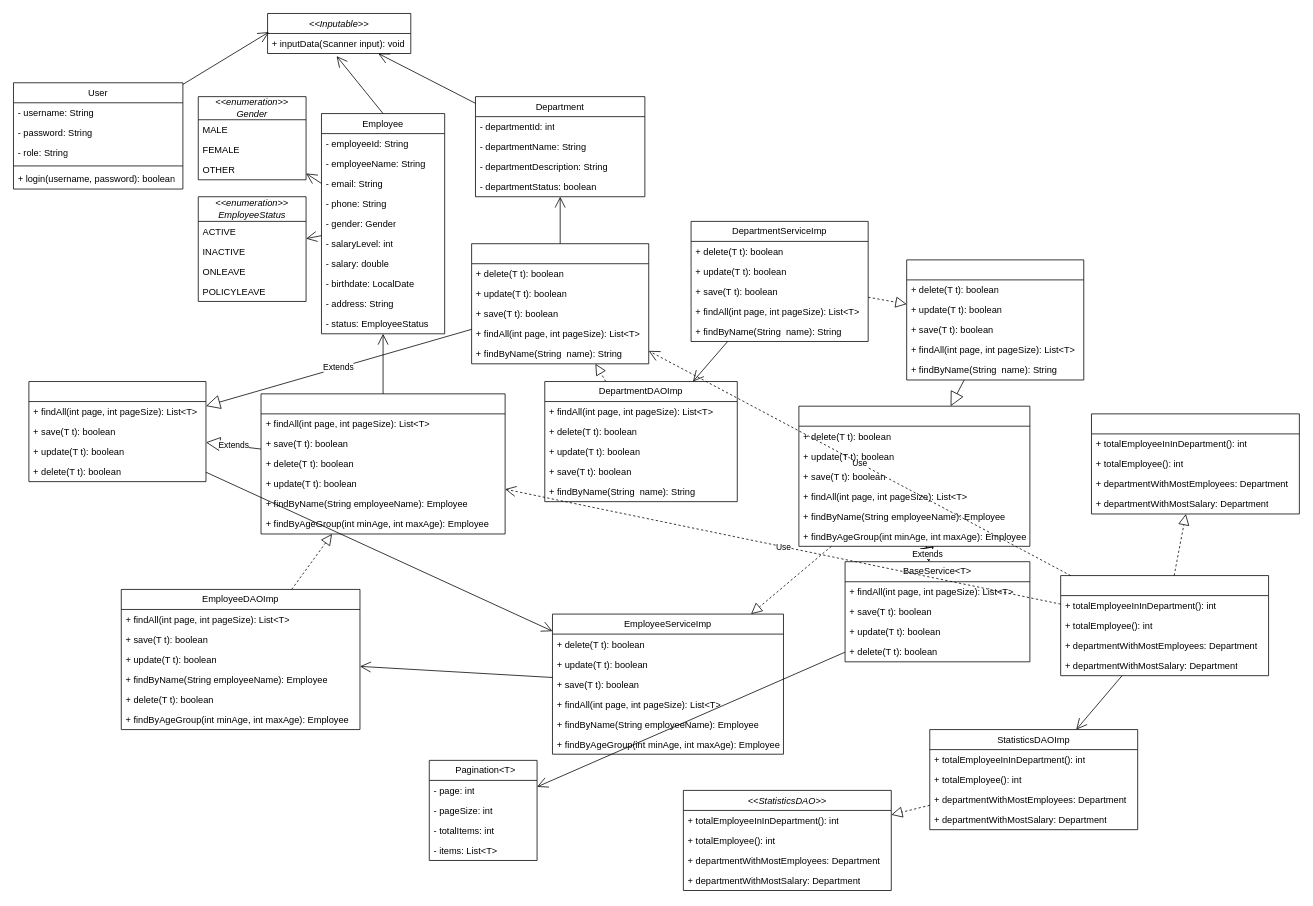
Image size: 1313x906. Some labels were removed from this diagram. The shapes that lost their labels are listed below. From the top down, each one's box as (x1, y1, x2, y2) in pixels, then its label:
(471, 243, 649, 364): <<DepartmentDAO>>
(906, 259, 1084, 380): <<DepartmentService>>
(28, 381, 206, 482): BaseDAO<T>
(260, 393, 505, 534): <<EmployeeDAO>>
(798, 405, 1030, 546): <<EmployeeService>>
(1091, 413, 1299, 514): <<StatisticsService>>
(1060, 575, 1269, 676): StatisticsServiceImp
